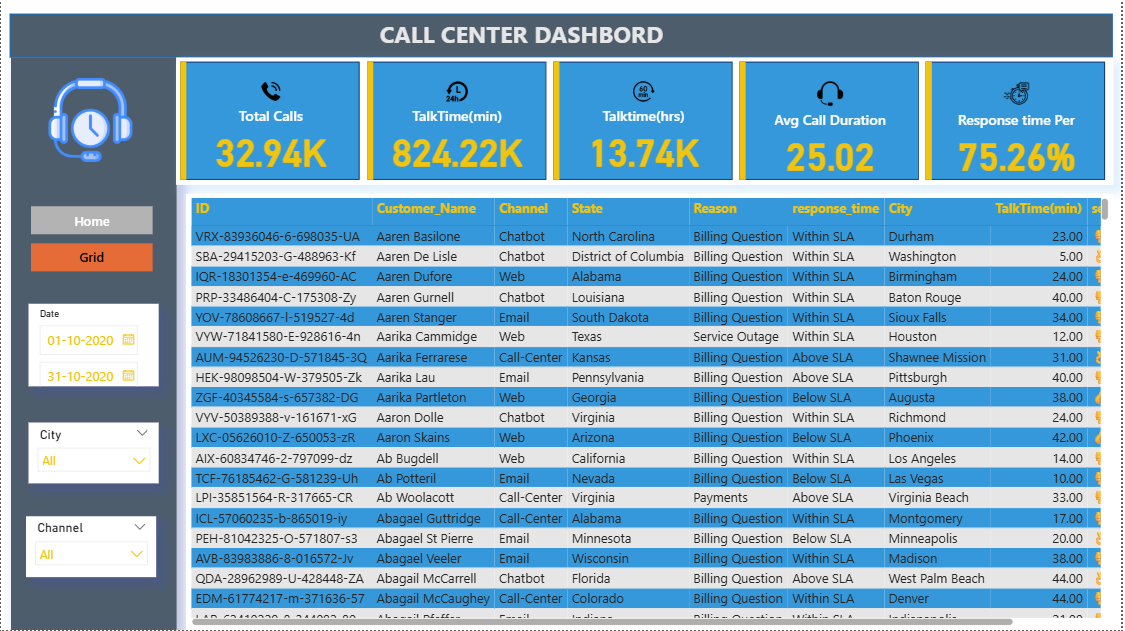

This screenshot's page, from the dashboard's own definition file:
{"tool":"powerbi","page":{"name":"Grid","canvas":[1280,720],"ordinal":1},"visuals":[{"type":"shape","box":[11,65.9,189.4,654.5],"z":0},{"type":"shape","box":[10.5,16.3,1260.5,50],"z":1000},{"type":"cardVisual","fields":{"Data":["_measures.Total Calls","_measures.TalkTime(min)","_measures.Talktime(hrs)","_measures.Avg Call Duration","_measures.Response time Per"]},"box":[200,66.3,1070.9,145.3],"z":2000},{"type":"textbox","box":[382.6,16.3,424.4,45.3],"z":3000},{"type":"slicer","title":"Date","fields":{"Values":["Calender.Date"]},"box":[31.4,346.5,148.8,94.2],"z":4000},{"type":"slicer","fields":{"Values":["calls.City"]},"box":[31.4,482.6,148.8,69.8],"z":5000},{"type":"slicer","fields":{"Values":["calls.Channel"]},"box":[29.1,589.5,148.8,69.8],"z":6000},{"type":"image","box":[41.9,84.9,122.1,105.8],"z":7000},{"type":"tableEx","fields":{"Values":["calls.ID","calls.Customer_Name","calls.Channel","calls.State","calls.Reason","calls.response_time","calls.City","_measures.TalkTime(min)","calls.sentiment status"]},"box":[211.6,220.9,1059.3,498.8],"z":8000},{"type":"pageNavigator","box":[33.7,236,139.5,74.4],"z":9000}]}

Visuals, with their boxes on the page's 1280x720 design canvas (x1, y1, x2, y2). These are canvas units, not pixel positions in the 1125x631 screenshot, which may show the page scaled, cropped or inside an application window:
shape: [x1=11, y1=66, x2=200, y2=720]
shape: [x1=10, y1=16, x2=1271, y2=66]
cardVisual - _measures.Total Calls x _measures.TalkTime(min): [x1=200, y1=66, x2=1271, y2=212]
textbox: [x1=383, y1=16, x2=807, y2=62]
"Date" slicer: [x1=31, y1=346, x2=180, y2=441]
slicer - calls.City: [x1=31, y1=483, x2=180, y2=552]
slicer - calls.Channel: [x1=29, y1=590, x2=178, y2=659]
image: [x1=42, y1=85, x2=164, y2=191]
tableEx - calls.ID x calls.Customer_Name: [x1=212, y1=221, x2=1271, y2=720]
pageNavigator: [x1=34, y1=236, x2=173, y2=310]
